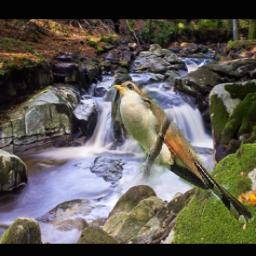Cuckoo: (111, 81, 254, 223), (58, 89, 77, 104)
